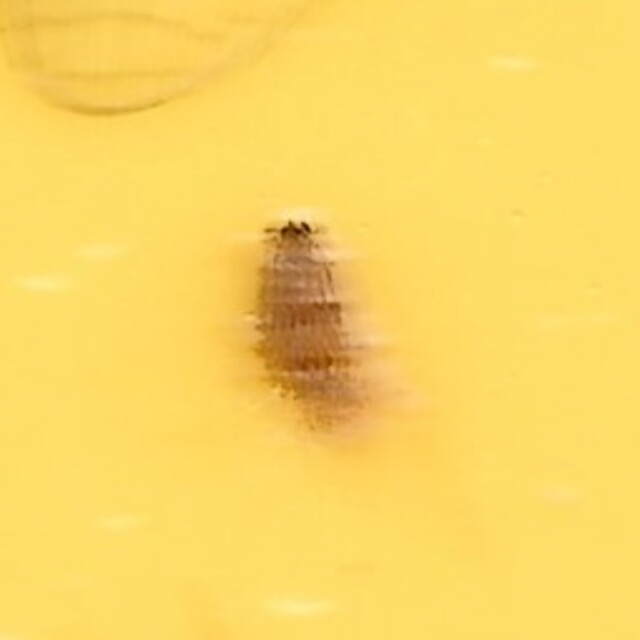Trichoptera: (251, 200, 389, 440)
